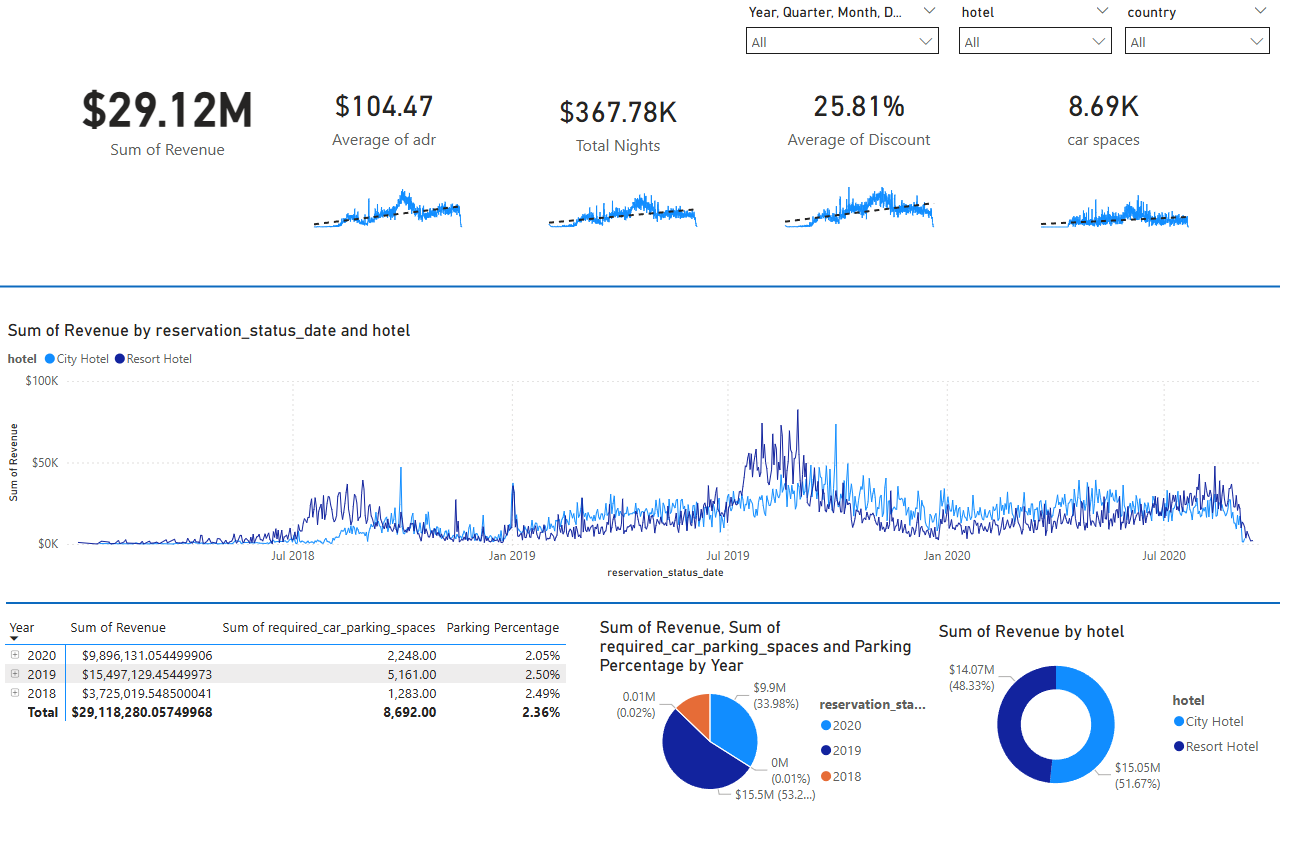

This screenshot's page, from the dashboard's own definition file:
{"tool":"powerbi","page":{"name":"Page 1","canvas":[1300,860],"ordinal":0},"visuals":[{"type":"shape","box":[0,279.4,1280,26.4],"z":0},{"type":"shape","box":[5.7,588.7,1274.3,39.9],"z":1000},{"type":"card","fields":{"Values":["Sum(Query1.Revenue)"]},"box":[27.1,47.8,280.8,145.4],"z":2000},{"type":"card","fields":{"Values":["Avg(Query1.adr)"]},"box":[291.5,57.7,185.3,124.7],"z":3000},{"type":"card","fields":{"Values":["Query1.Total Nights"]},"box":[523.8,70.6,188.2,111.9],"z":4000},{"type":"card","fields":{"Values":["Avg(Query1.Discount)"]},"box":[736.9,54.2,244.5,132.6],"z":5000},{"type":"card","fields":{"Values":["Sum(Query1.required_car_parking_spaces)"]},"box":[981.4,54.2,244.5,132.6],"z":6000},{"type":"lineChart","fields":{"Y":["Sum(Query1.Revenue)"],"Category":["Query1.reservation_status_date"],"Series":["Query1.hotel"]},"box":[2.9,325.7,1277.1,263],"z":7000},{"type":"slicer","fields":{"Values":["Query1.country"]},"box":[1114.7,5,165.3,68.4],"z":8000},{"type":"lineChart","fields":{"Y":["Sum(Query1.adr)"],"Category":["Query1.reservation_status_date"]},"box":[298.6,176,178.2,62.7],"z":9000},{"type":"lineChart","fields":{"Y":["Query1.Total Nights"],"Category":["Query1.reservation_status_date"]},"box":[533.8,176,178.2,62.7],"z":10000},{"type":"lineChart","fields":{"Category":["Query1.reservation_status_date"],"Y":["Sum(Query1.Discount)"]},"box":[770.4,176,178.2,62.7],"z":11000},{"type":"slicer","fields":{"Values":["Query1.hotel"]},"box":[948.6,5,173.9,68.4],"z":12000},{"type":"lineChart","fields":{"Category":["Query1.reservation_status_date"],"Y":["Sum(Query1.required_car_parking_spaces)"]},"box":[1025.6,176,178.2,62.7],"z":13000},{"type":"donutChart","fields":{"Category":["Query1.hotel"],"Y":["Sum(Query1.Revenue)"]},"box":[933.8,627.5,339.1,187.1],"z":14000},{"type":"pivotTable","fields":{"Rows":["Query1.reservation_status_date.Variation.Date Hierarchy.Year","Query1.hotel"],"Values":["Sum(Query1.Revenue)","Sum(Query1.required_car_parking_spaces)","Query1.Parking Percentage"]},"box":[0,618.4,571.2,196.2],"z":15000},{"type":"slicer","fields":{"Values":["Query1.reservation_status_date.Variation.Date Hierarchy.Year","Query1.reservation_status_date.Variation.Date Hierarchy.Quarter","Query1.reservation_status_date.Variation.Date Hierarchy.Month","Query1.reservation_status_date.Variation.Date Hierarchy.Day"]},"box":[736.5,4.5,212.5,66.3],"z":16000},{"type":"pieChart","fields":{"Category":["Query1.reservation_status_date.Variation.Date Hierarchy.Year","Query1.hotel"],"Y":["Sum(Query1.Revenue)","Sum(Query1.required_car_parking_spaces)","Query1.Parking Percentage"]},"box":[594.8,623,338.7,191.6],"z":17000}]}

Visuals, with their boxes in screenshot pixels (x1, y1, x2, y2), scaled from the page's 1300x860 canvas onto the 1296x854 screenshot:
shape: locate(0, 277, 1276, 304)
shape: locate(6, 585, 1276, 624)
card - Sum(Query1.Revenue): locate(27, 47, 307, 192)
card - Avg(Query1.adr): locate(291, 57, 475, 181)
card - Query1.Total Nights: locate(522, 70, 710, 181)
card - Avg(Query1.Discount): locate(735, 54, 978, 185)
card - Sum(Query1.required_car_parking_spaces): locate(978, 54, 1222, 185)
lineChart - Sum(Query1.Revenue) x Query1.reservation_status_date: locate(3, 323, 1276, 585)
slicer - Query1.country: locate(1111, 5, 1276, 73)
lineChart - Sum(Query1.adr) x Query1.reservation_status_date: locate(298, 175, 475, 237)
lineChart - Query1.Total Nights x Query1.reservation_status_date: locate(532, 175, 710, 237)
lineChart - Query1.reservation_status_date x Sum(Query1.Discount): locate(768, 175, 946, 237)
slicer - Query1.hotel: locate(946, 5, 1119, 73)
lineChart - Query1.reservation_status_date x Sum(Query1.required_car_parking_spaces): locate(1022, 175, 1200, 237)
donutChart - Query1.hotel x Sum(Query1.Revenue): locate(931, 623, 1269, 809)
pivotTable - Query1.reservation_status_date.Variation.Date Hierarchy.Year x Query1.hotel: locate(0, 614, 569, 809)
slicer - Query1.reservation_status_date.Variation.Date Hierarchy.Year x Query1.reservation_status_date.Variation.Date Hierarchy.Quarter: locate(734, 4, 946, 70)
pieChart - Query1.reservation_status_date.Variation.Date Hierarchy.Year x Query1.hotel: locate(593, 619, 931, 809)
